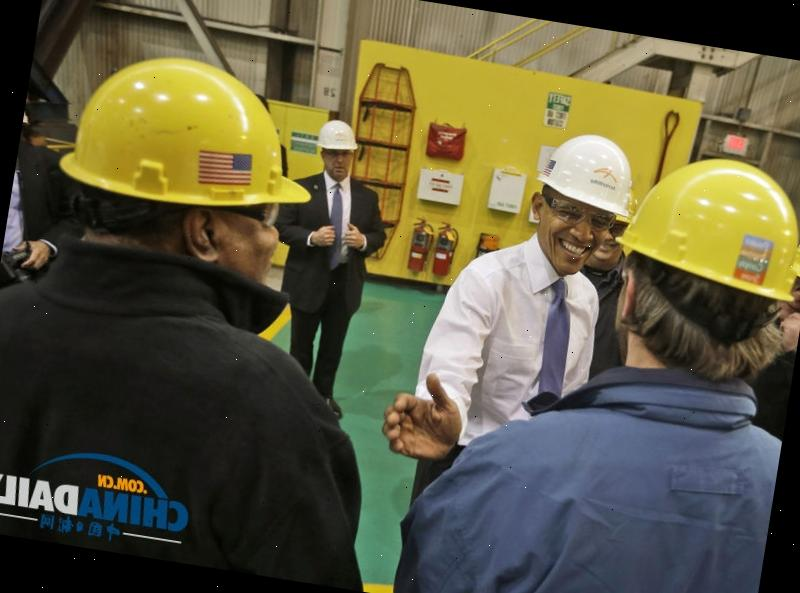helmet: (40, 26, 337, 238), (610, 134, 800, 308), (524, 122, 654, 223), (314, 115, 364, 156), (781, 208, 800, 293)
no_wear: (0, 265, 394, 589), (434, 254, 608, 402), (276, 173, 386, 317)
